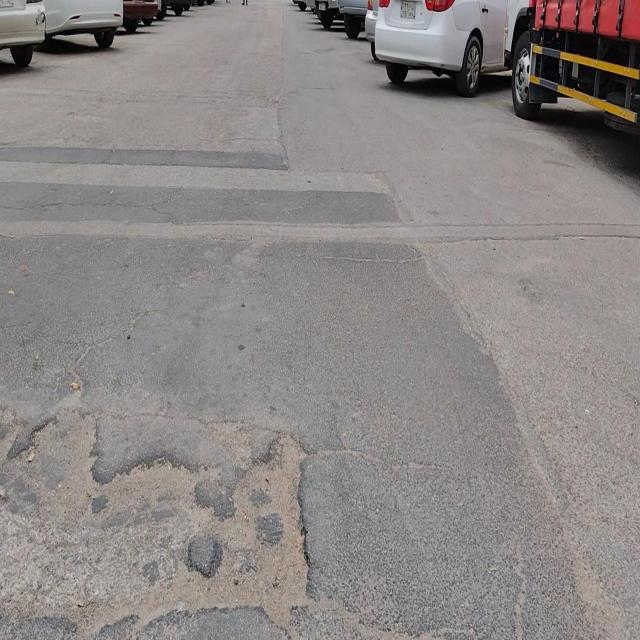Pothole: (91, 448, 224, 630), (203, 426, 313, 631)
